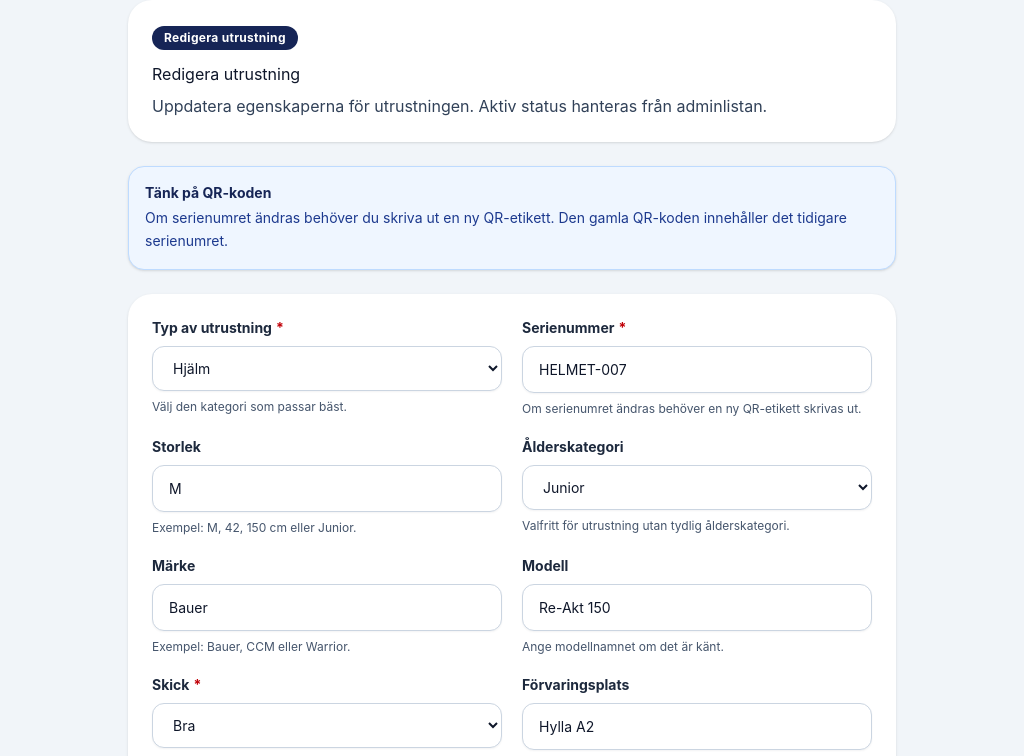
Test case: EditEquipment › clears local field error when value changes
Step 1. Clear the field labelled "Serienummer*" → (697, 369), box [522,346,872,392]
(page scrolled)
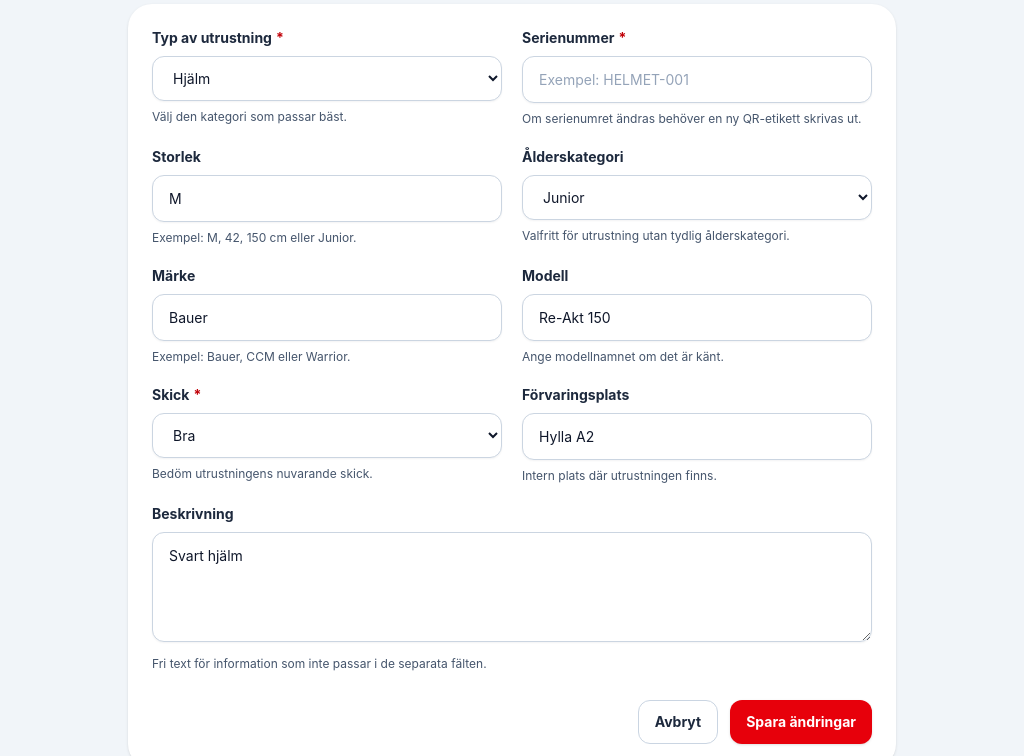
Step 2. Submit the form named "spara ändringar"
(page scrolled)
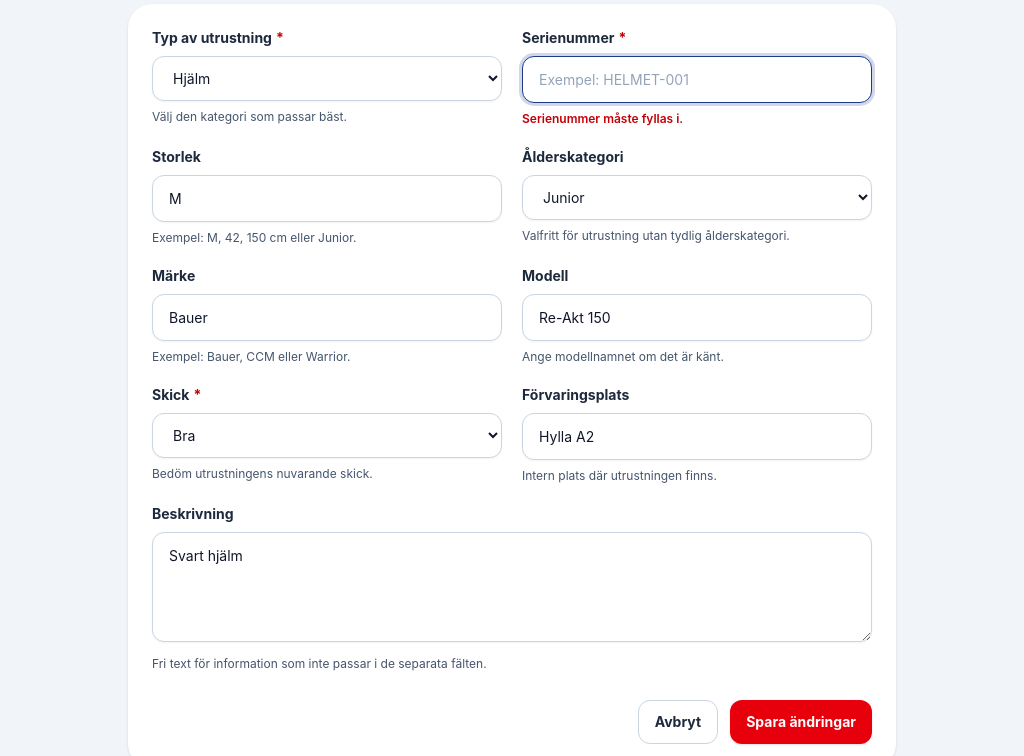
Check: the text "Serienummer måste fyllas i." is shown, box [522,111,683,126]
Step 3. Type "HELMET-008" into the field labelled "Serienummer*" → (697, 80), box [522,56,872,103]
(page scrolled)
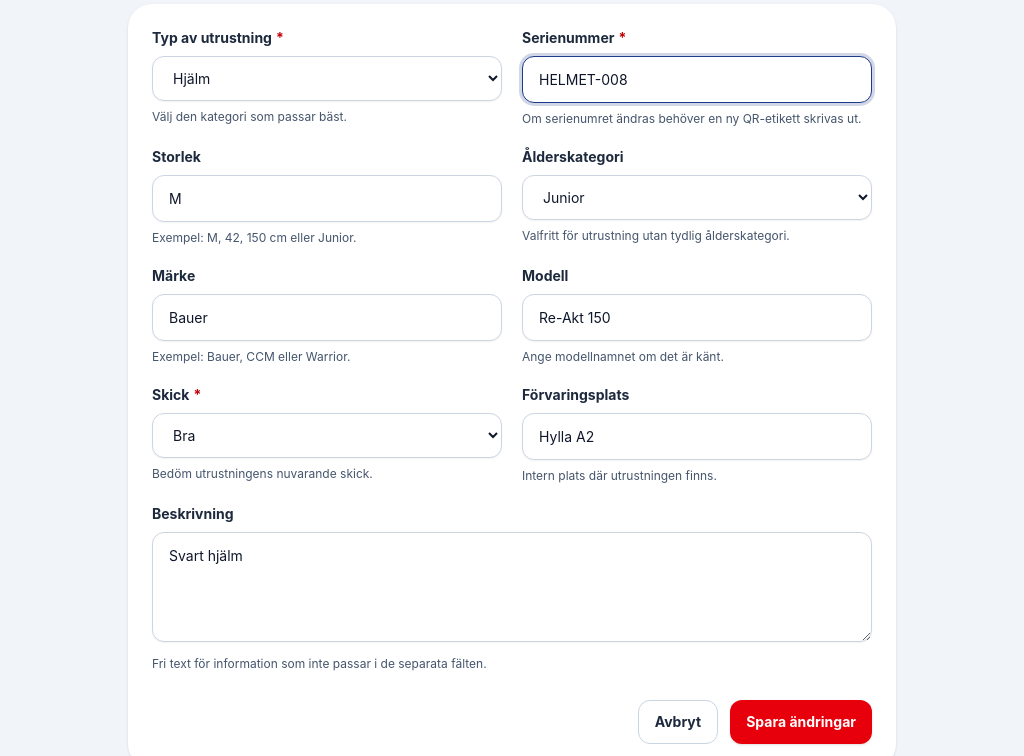
Check: the text "Serienummer måste fyllas i" is gone
